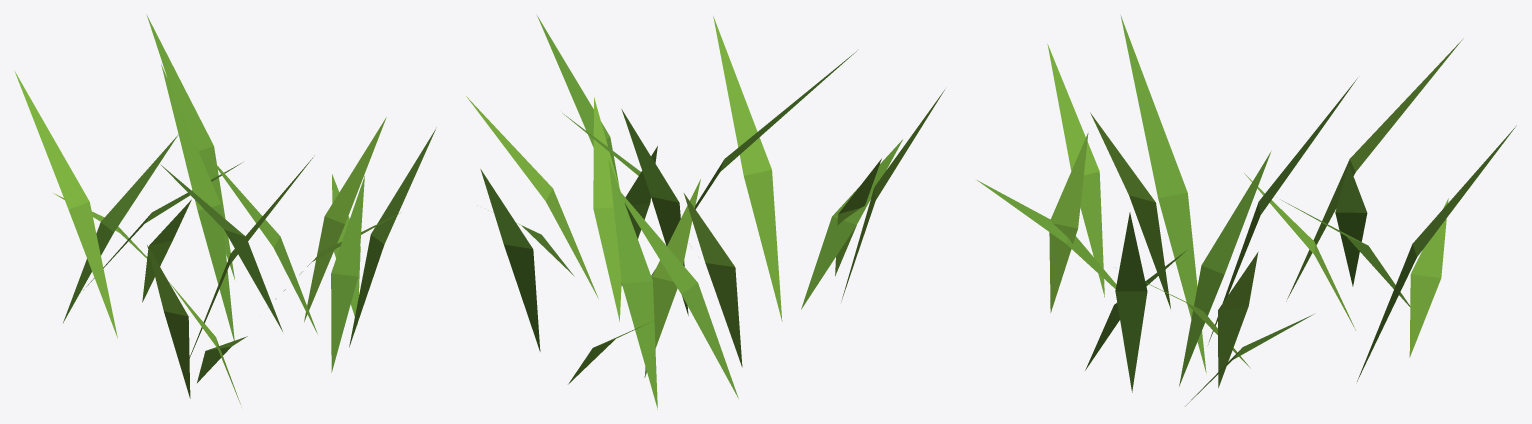
Rendered from grass.glb.
3 renders of one model, left to right at view 1: azimuth 30°, elevation 25°; view 2: azimuth 150°, elevation 25°; view 3: azimuth 270°, elevation 25°, orthographic. The views are drawn at different scales.
Parts seen in each view (by area): view 1: grass, leaf_light; view 2: grass, leaf_light; view 3: grass, leaf_light.
Boxes of the visible parts, x1=… form: grass: x1=63, y1=14, x2=436, y2=382; leaf_light: x1=14, y1=71, x2=398, y2=404; grass: x1=477, y1=14, x2=902, y2=409; leaf_light: x1=466, y1=16, x2=944, y2=384; grass: x1=977, y1=15, x2=1516, y2=406; leaf_light: x1=1047, y1=38, x2=1463, y2=387.
Bounding box in the file's own units: 0.8316 × 0.5669 × 1.03.
